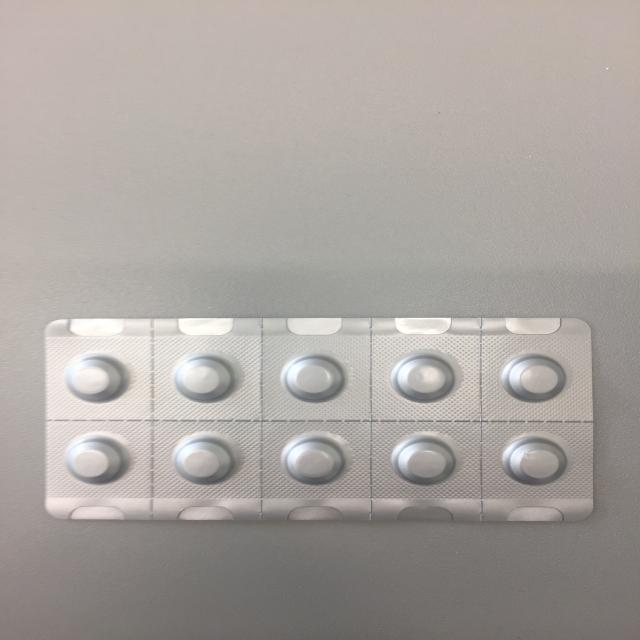Pill: (277, 432, 352, 488), (168, 431, 240, 488), (62, 431, 134, 488), (495, 354, 574, 405), (165, 353, 242, 404), (389, 351, 459, 407), (390, 432, 460, 488), (499, 432, 570, 487), (277, 353, 349, 406), (63, 352, 129, 407)
